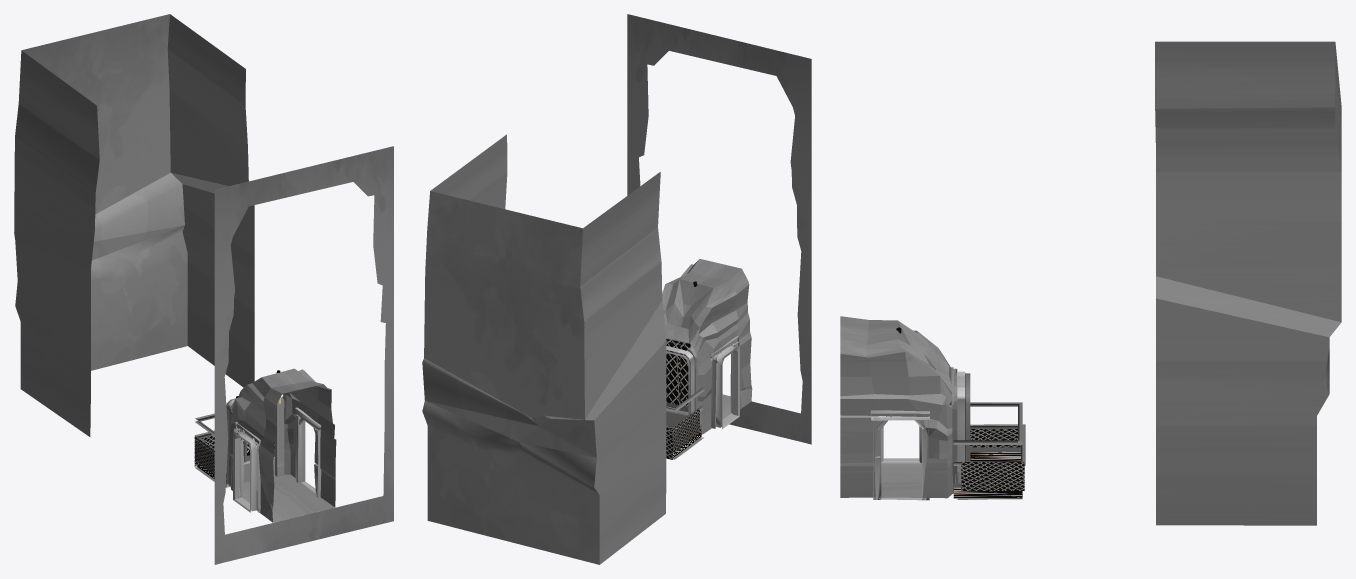
File: MSH_QuestElevator_L4.fbx
3 views of the same model, side by side, from view 1: azimuth 30°, elevation 25°; view 2: azimuth 150°, elevation 25°; view 3: azimuth 270°, elevation 25° (orthographic). The views are drawn at different scales.
Parts seen in each view (by area): view 1: MSH_QuestElevator_L1_R3_Room_Back, MSH_QuestElevator_L1_R3_Room_frame, MSH_QuestElevator_L1_R3_Wall_01, MSH_QuestElevator_L1_R3_Doors_01, MSH_QuestElevator_L1_R3_Object_01; view 2: MSH_QuestElevator_L1_R3_Room_Back, MSH_QuestElevator_L1_R3_Room_frame, MSH_QuestElevator_L1_R3_Wall_01, MSH_QuestElevator_L1_R3_Doors_01, MSH_QuestElevator_L1_R3_Object_01, MSH_Elevator_DoorUp; view 3: MSH_QuestElevator_L1_R3_Room_Back, MSH_QuestElevator_L1_R3_Wall_01, MSH_QuestElevator_L1_R3_Object_01, MSH_QuestElevator_L1_R3_Doors_01.
Part boxes in pixels (x1,y1,x2,y2): MSH_QuestElevator_L1_R3_Room_Back: (14,14,254,436); MSH_QuestElevator_L1_R3_Room_frame: (214,146,393,564); MSH_QuestElevator_L1_R3_Wall_01: (228,368,336,522); MSH_QuestElevator_L1_R3_Doors_01: (225,397,321,512); MSH_QuestElevator_L1_R3_Object_01: (194,398,234,487); MSH_QuestElevator_L1_R3_Room_Back: (422,134,666,564); MSH_QuestElevator_L1_R3_Room_frame: (627,14,811,444); MSH_QuestElevator_L1_R3_Wall_01: (662,259,752,434); MSH_QuestElevator_L1_R3_Doors_01: (666,336,739,438); MSH_QuestElevator_L1_R3_Object_01: (666,351,703,459); MSH_Elevator_DoorUp: (666,339,690,415); MSH_QuestElevator_L1_R3_Room_Back: (1155,41,1341,525); MSH_QuestElevator_L1_R3_Wall_01: (840,316,957,498); MSH_QuestElevator_L1_R3_Object_01: (953,373,1025,499); MSH_QuestElevator_L1_R3_Doors_01: (870,367,965,500).
Bounding box in the file's own units: 8.73 × 17.47 × 17.76.
